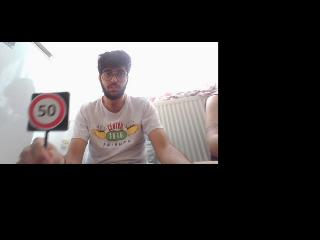Speedlimit_50: (32, 95, 68, 131)
